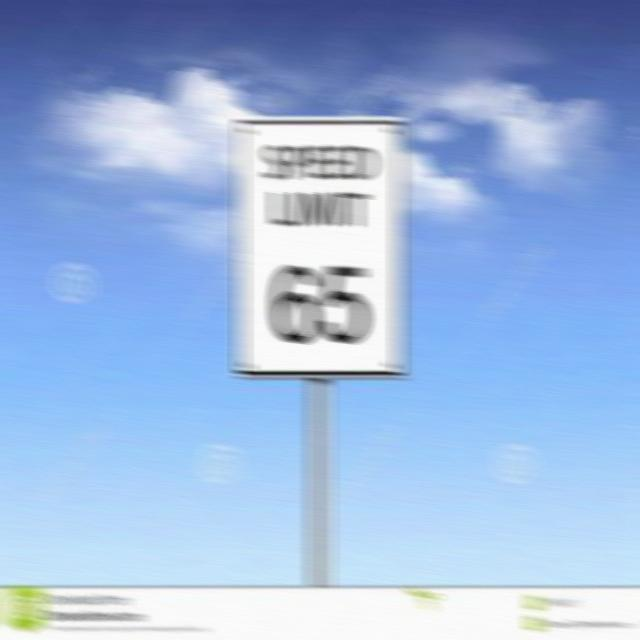speedLimit65: (233, 112, 408, 383)
